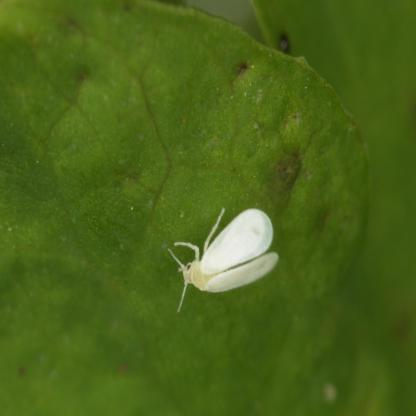whitefly: (184, 207, 278, 293)
